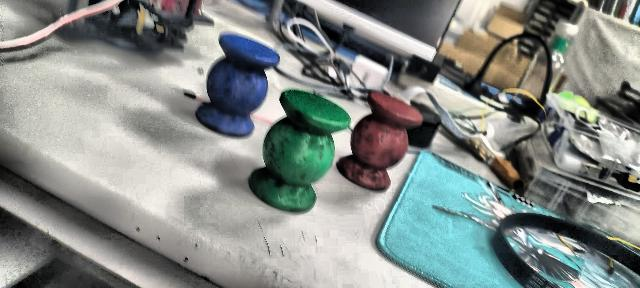blue: (196, 33, 279, 138)
green: (248, 87, 345, 211)
red: (338, 91, 424, 192)
